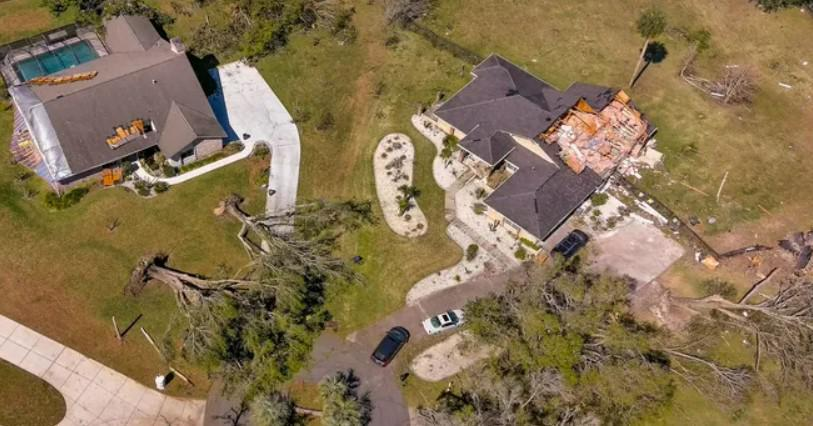major: (399, 33, 680, 258), (1, 6, 263, 192)
